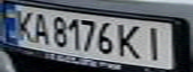1: (63, 16, 84, 52)
6: (93, 19, 118, 56)
7: (78, 17, 96, 53)
8: (48, 14, 69, 48)
A: (27, 10, 51, 45)
I: (139, 24, 172, 62)
K: (115, 21, 145, 61), (9, 7, 39, 43)
